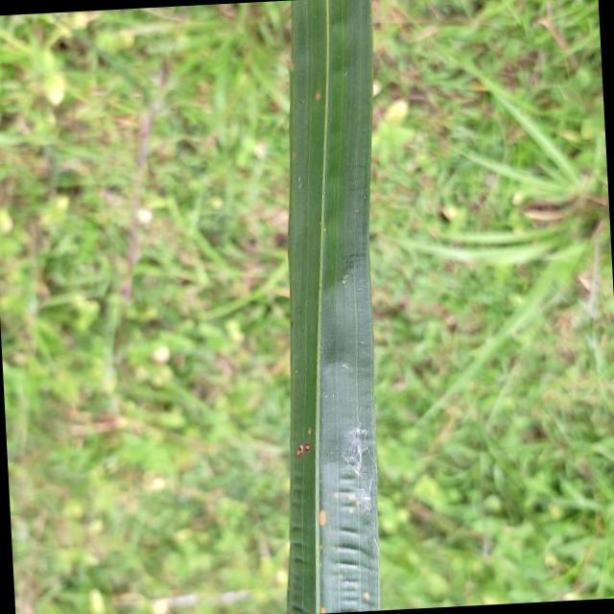Boron: (288, 3, 382, 614)
